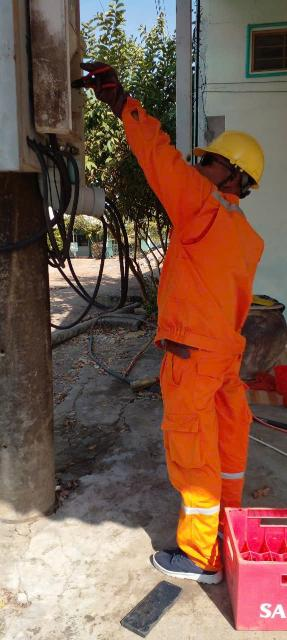gloves: (82, 57, 140, 118)
helmet: (190, 112, 274, 198)
shoes: (139, 533, 224, 602)
